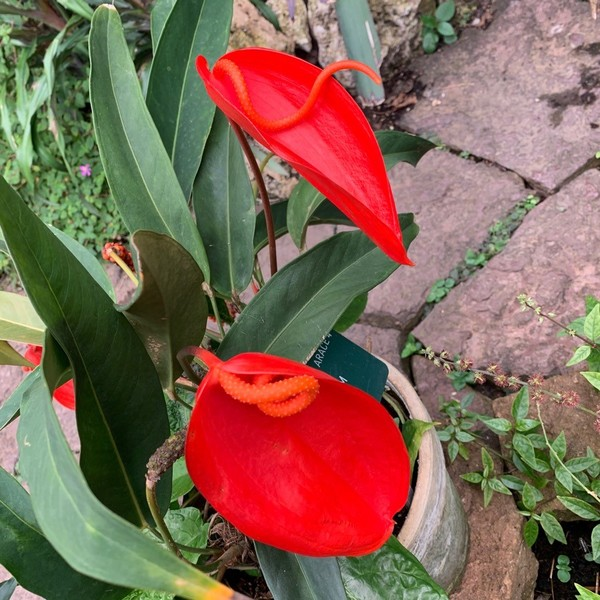obstacle: (62, 56, 510, 579), (443, 389, 568, 547)
